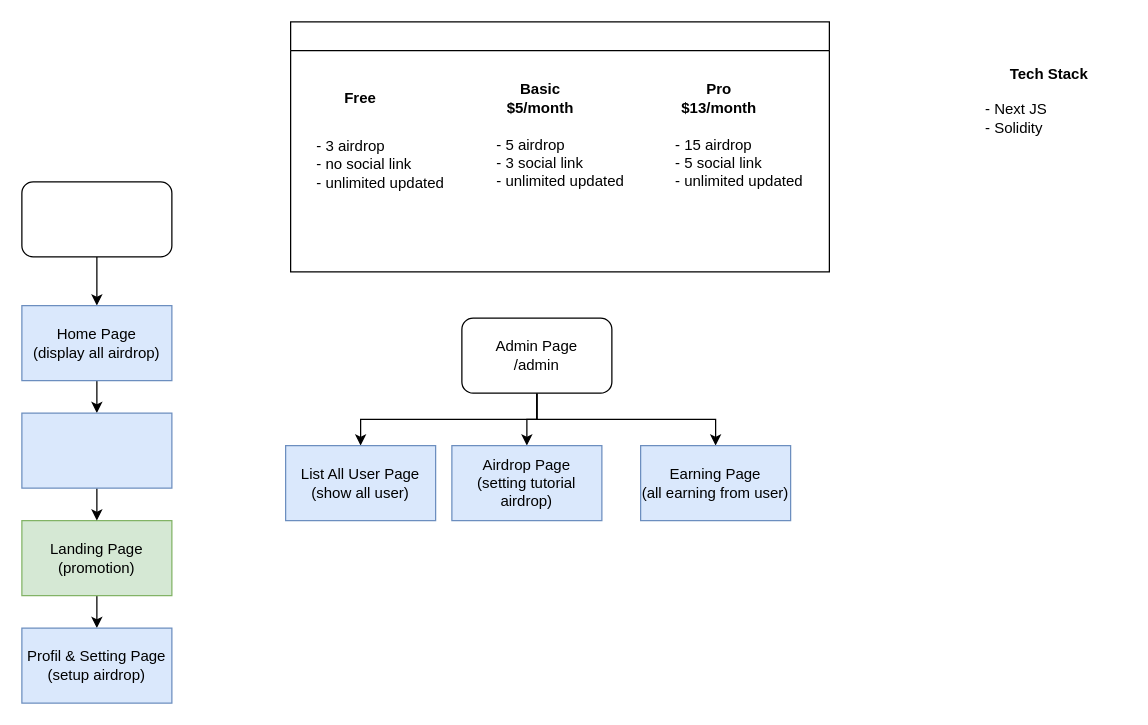
The diagram is 1148 pixels wide and 725 high, and some of its shapes have lost their labels. Each missing label, with the box of its shape:
Detail Page (show detail airdrop): (21, 412, 172, 488)
Pricing: (289, 21, 829, 272)
User Page /@username: (21, 181, 172, 257)
